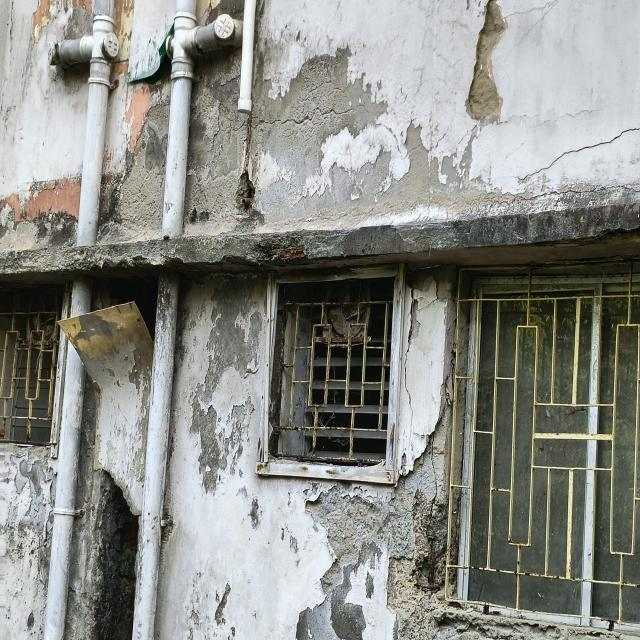peeling: (251, 105, 367, 135)
